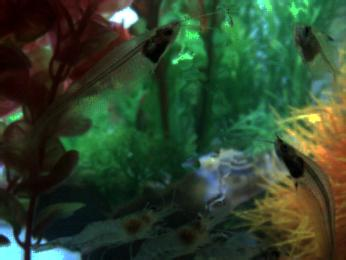X-ray fish: (291, 20, 346, 93)
glassfish: (3, 18, 183, 159), (270, 138, 341, 260)
siberian prawn: (26, 201, 182, 254), (127, 204, 236, 260)
